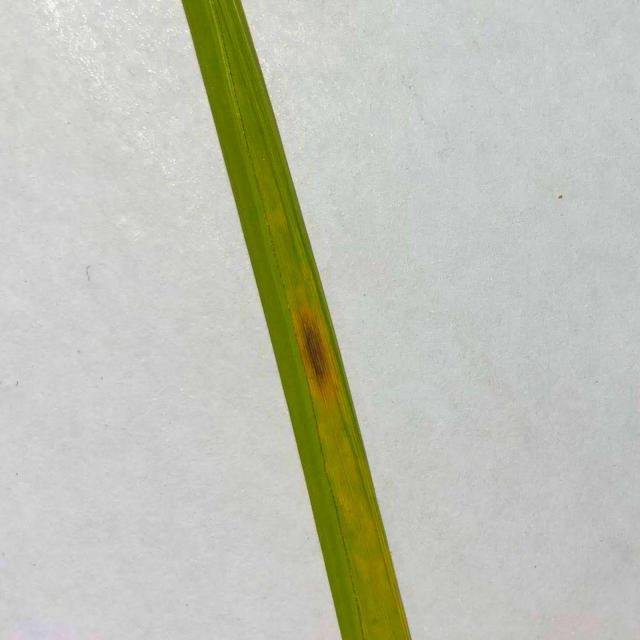Brown spot: (174, 1, 416, 640)
